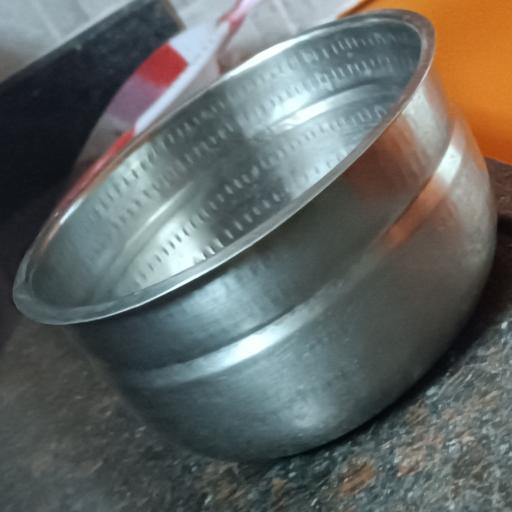vessel: (14, 11, 495, 459)
